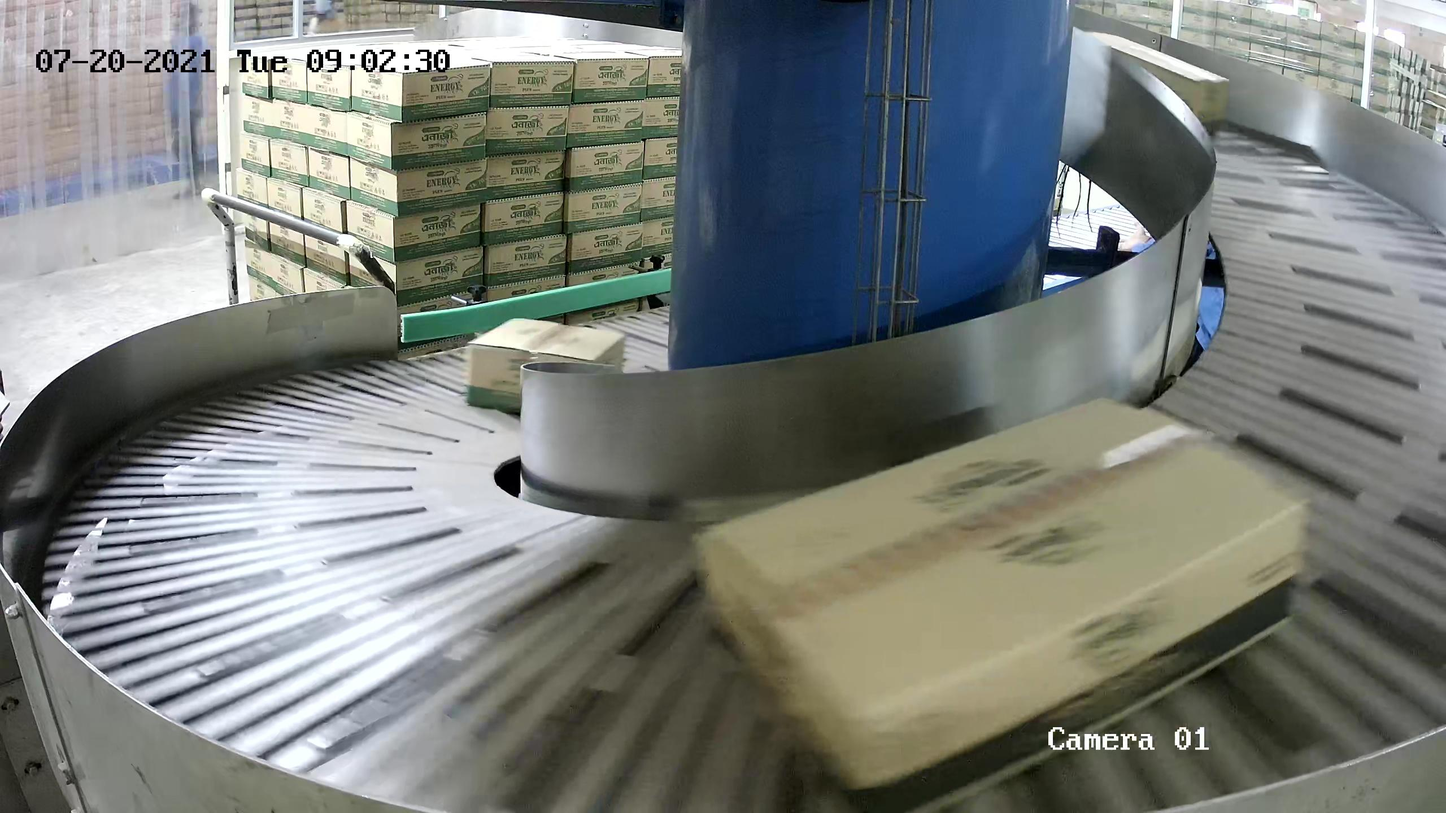Box: (694, 391, 1313, 813), (466, 316, 627, 415)
